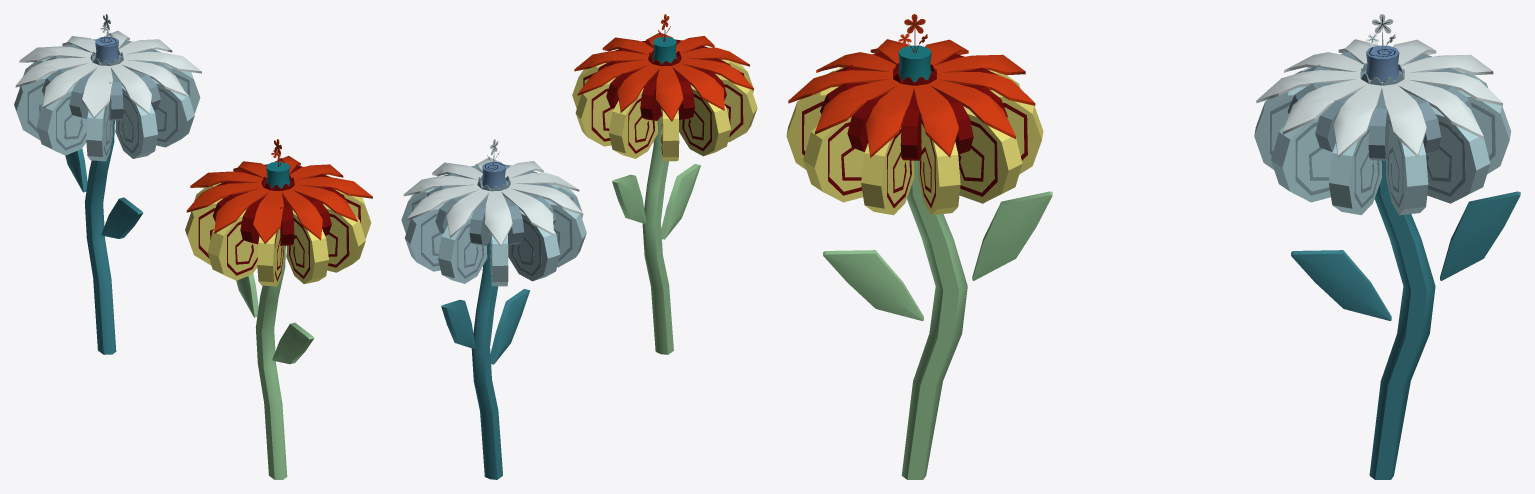
File: Planta_Ventilador_Fechada_Estações.fbx
The picture shows the model from 3 angles, left to right: view 1: azimuth 30°, elevation 25°; view 2: azimuth 150°, elevation 25°; view 3: azimuth 270°, elevation 25°; orthographic projection. The views are drawn at different scales.
Parts seen in each view (by area): view 1: pCube7 (×2), pCylinder10, Planta_Aberta_01:pCylinder10, pCube16 (×2), pCube18 (×2), pCube19 (×2), pCube14 (×2), pCube17 (×2), pCube9 (×2), pCube8 (×2), pCylinder43 (×2), pCylinder44 (×2) (+2 smaller); view 2: pCube7 (×2), Planta_Aberta_01:pCylinder10, pCylinder10, pCube14 (×2), pCube23 (×2), pCube22 (×2), pCube16 (×2), pCube9 (×2), pCube8 (×2), pCube24 (×2), pCylinder50 (×2), pCylinder12 (×2) (+3 smaller); view 3: pCube7 (×2), pCylinder10, Planta_Aberta_01:pCylinder10, pCube22 (×2), pCube19 (×2), pCube9 (×2), pCube8 (×2), pCube20 (×2), pCube21 (×2), pCube23 (×2), pCube18 (×2), pCylinder47 (×2) (+3 smaller).
Part boxes in pixels (<box>): pCube7 (×2): <box>84,120,287,479</box>; pCylinder10: <box>186,155,372,243</box>; Planta_Aberta_01:pCylinder10: <box>15,30,201,118</box>; pCube16 (×2): <box>36,84,258,280</box>; pCube18 (×2): <box>115,85,328,283</box>; pCube19 (×2): <box>151,78,365,272</box>; pCube14 (×2): <box>14,73,222,265</box>; pCube17 (×2): <box>86,103,283,286</box>; pCube9 (×2): <box>101,197,314,364</box>; pCube8 (×2): <box>65,148,258,317</box>; pCylinder43 (×2): <box>69,71,265,244</box>; pCylinder44 (×2): <box>109,70,294,245</box>; pCube7 (×2): <box>471,116,673,479</box>; Planta_Aberta_01:pCylinder10: <box>403,158,583,246</box>; pCylinder10: <box>574,33,753,121</box>; pCube14 (×2): <box>508,84,730,281</box>; pCube23 (×2): <box>438,88,657,283</box>; pCube22 (×2): <box>405,77,615,271</box>; pCube16 (×2): <box>544,74,757,267</box>; pCube9 (×2): <box>490,164,700,364</box>; pCube8 (×2): <box>441,174,646,348</box>; pCube24 (×2): <box>490,108,679,286</box>; pCylinder50 (×2): <box>469,71,661,245</box>; pCylinder12 (×2): <box>482,36,676,188</box>; pCube7 (×2): <box>901,160,1435,479</box>; pCylinder10: <box>788,39,1035,157</box>; Planta_Aberta_01:pCylinder10: <box>1256,39,1502,157</box>; pCube22 (×2): <box>958,106,1490,203</box>; pCube19 (×2): <box>803,116,1332,202</box>; pCube9 (×2): <box>823,250,1391,320</box>; pCube8 (×2): <box>972,191,1520,280</box>; pCube20 (×2): <box>861,126,1381,215</box>; pCube21 (×2): <box>918,117,1428,215</box>; pCube23 (×2): <box>990,90,1511,174</box>; pCube18 (×2): <box>786,86,1305,169</box>; pCylinder47 (×2): <box>900,90,1389,160</box>.
Bounding box in the file's own units: 231 × 468 × 674.
